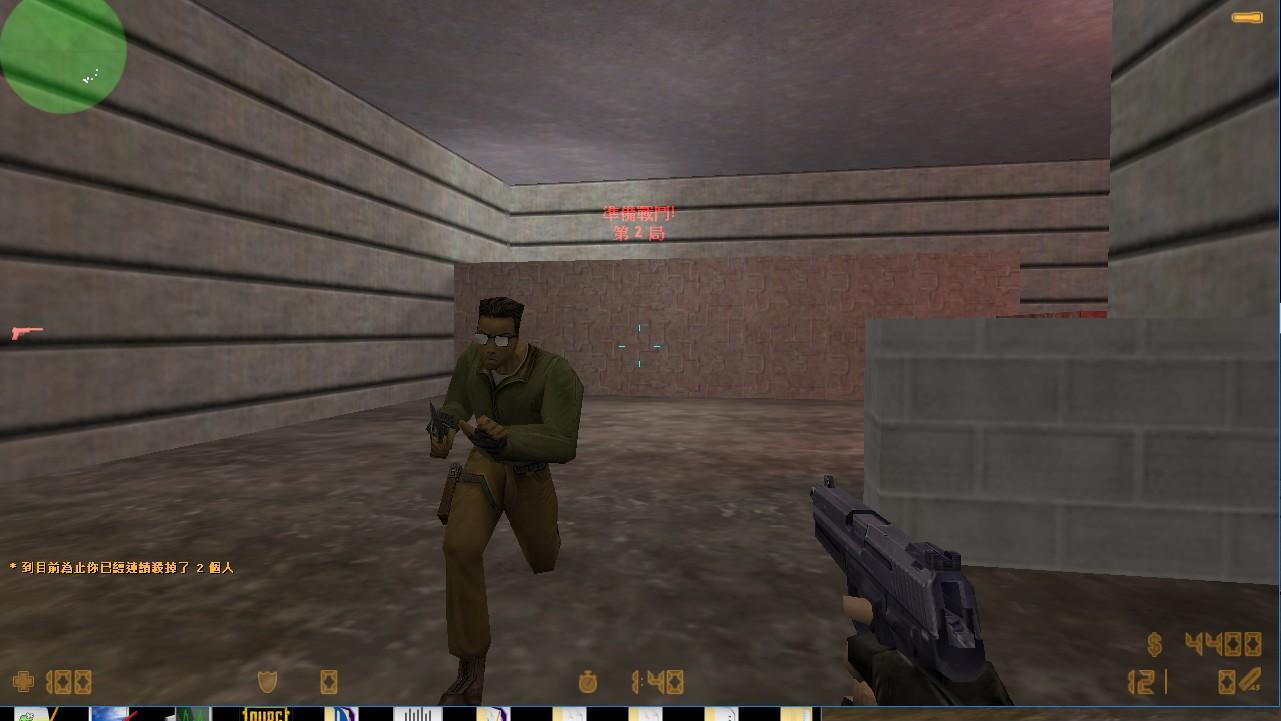person: (434, 294, 579, 650)
